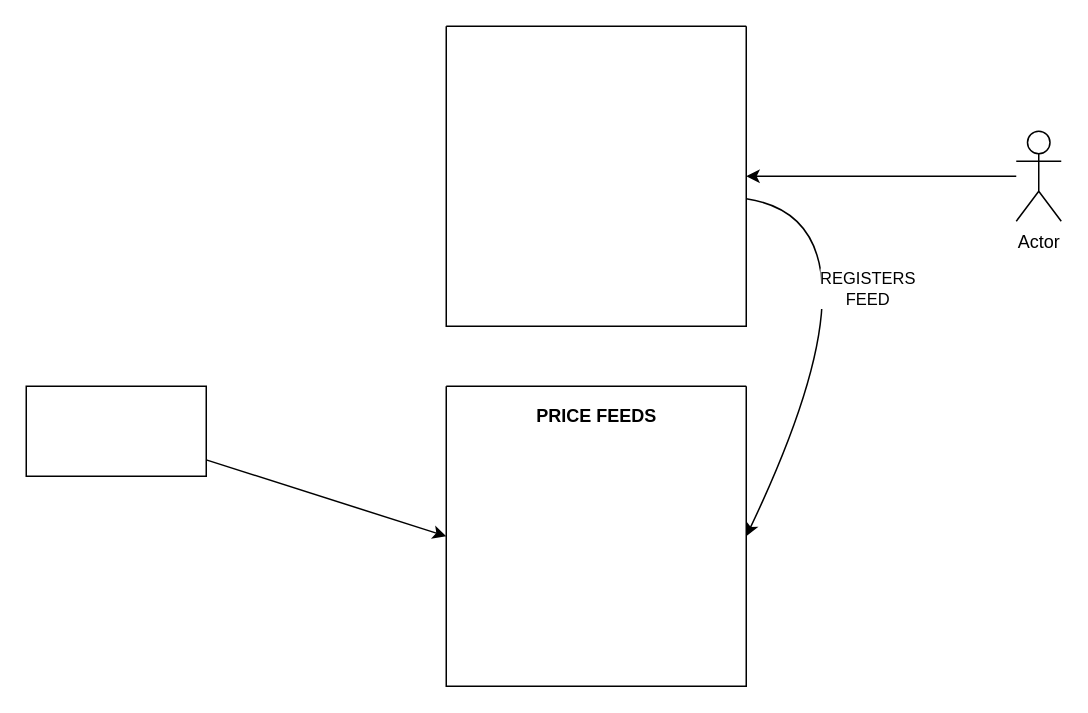
Some shapes in this 1088 by 713 pixel diagram are drawn without their labels. The shapes that lost their labels are listed below. From the top down, each one's box as (x1, y1, x2, y2) in pixels, then its label:
(445, 25, 746, 326): MAIN SMART CONTRACT
(25, 385, 206, 476): Rapsberry Keeper
